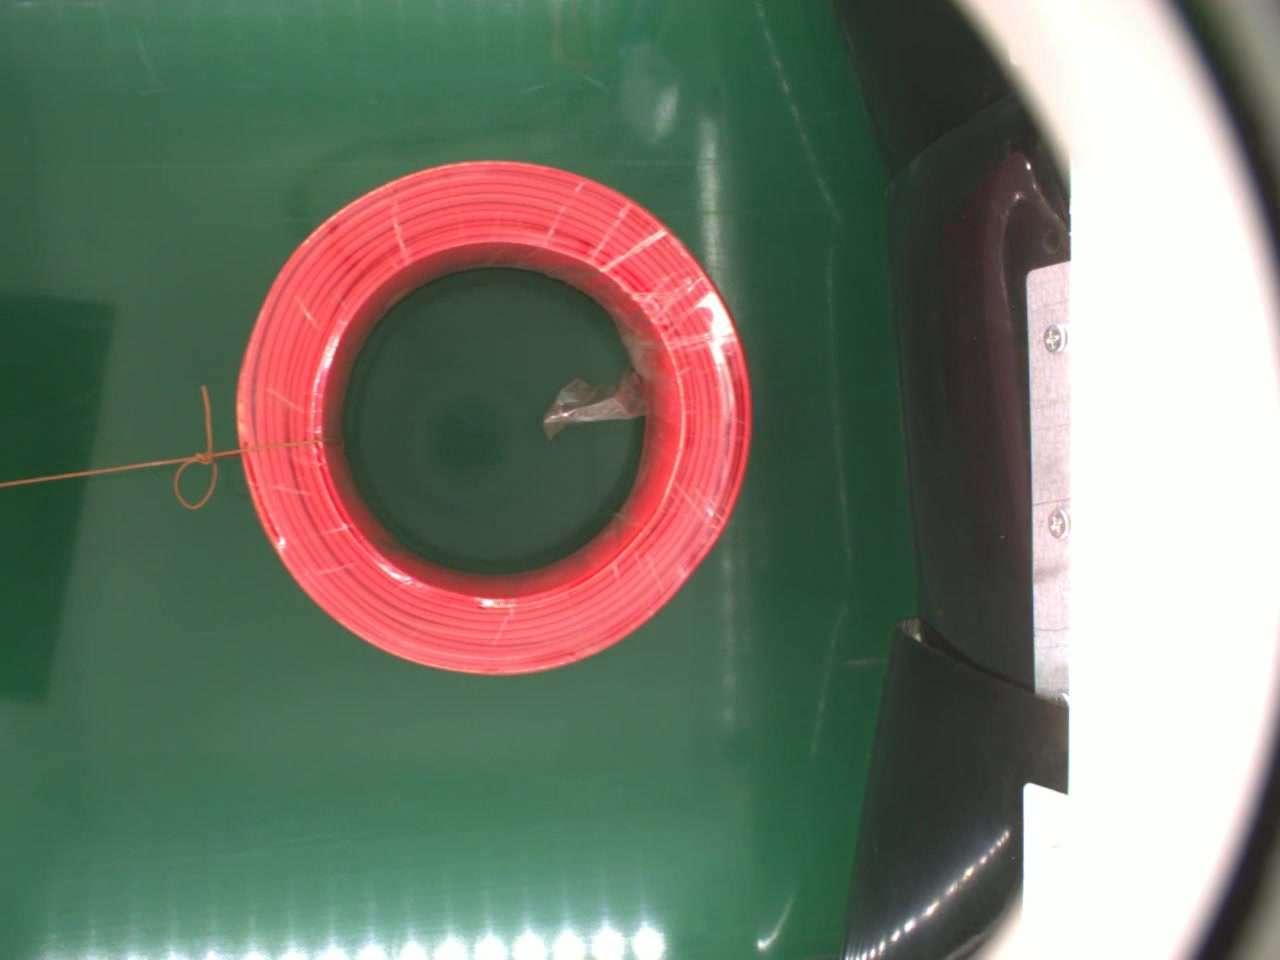red: (232, 155, 757, 678)
